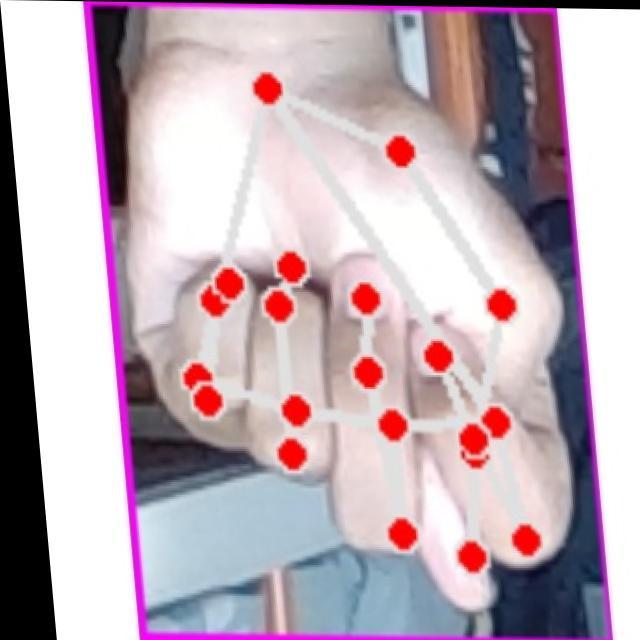T: (108, 53, 582, 618)
